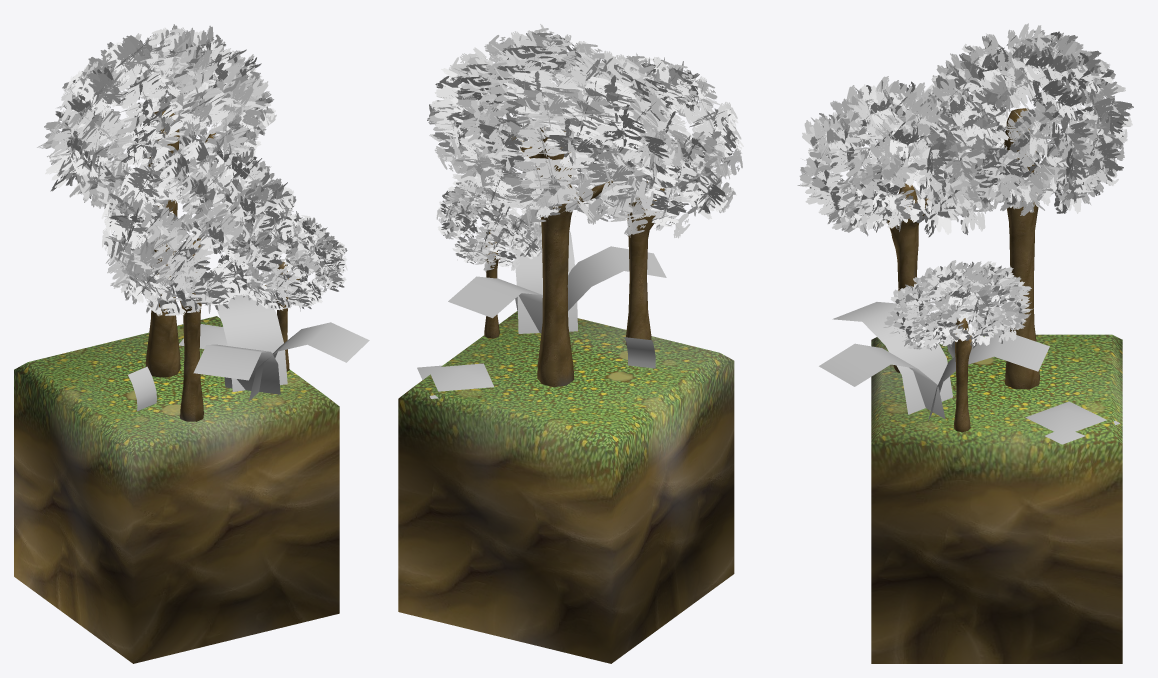
The model's file is BiomeNeutre.fbx.
3 renders of one model, left to right at view 1: azimuth 30°, elevation 25°; view 2: azimuth 150°, elevation 25°; view 3: azimuth 270°, elevation 25°, orthographic. The views are drawn at different scales.
Parts seen in each view (by area): view 1: NeutreFloor, TreeLargeXl, TreeLarge, FolliageLarge, TreeSmall, Leaves2, Leaves; view 2: NeutreFloor, TreeLargeXl, TreeLarge, FolliageLarge, TreeSmall, Leaves, Leaves2; view 3: NeutreFloor, TreeLargeXl, TreeLarge, TreeSmall, FolliageLarge, Leaves.
Part boxes in pixels (x1=…): NeutreFloor: x1=14, y1=316, x2=339, y2=663; TreeLargeXl: x1=37, y1=24, x2=276, y2=377; TreeLarge: x1=101, y1=140, x2=296, y2=421; FolliageLarge: x1=193, y1=288, x2=369, y2=401; TreeSmall: x1=221, y1=211, x2=347, y2=371; Leaves2: x1=128, y1=366, x2=156, y2=411; Leaves: x1=179, y1=324, x2=227, y2=348; NeutreFloor: x1=398, y1=311, x2=734, y2=663; TreeLargeXl: x1=427, y1=24, x2=685, y2=387; TreeLarge: x1=546, y1=53, x2=743, y2=345; FolliageLarge: x1=448, y1=227, x2=666, y2=333; TreeSmall: x1=436, y1=173, x2=542, y2=338; Leaves: x1=417, y1=363, x2=493, y2=398; Leaves2: x1=624, y1=337, x2=655, y2=368; NeutreFloor: x1=871, y1=334, x2=1122, y2=663; TreeLargeXl: x1=927, y1=23, x2=1133, y2=389; TreeLarge: x1=797, y1=76, x2=999, y2=372; TreeSmall: x1=883, y1=260, x2=1033, y2=432; FolliageLarge: x1=819, y1=302, x2=1049, y2=421; Leaves: x1=1025, y1=401, x2=1120, y2=444.
Bounding box in the file's own units: 130 × 258 × 143.
